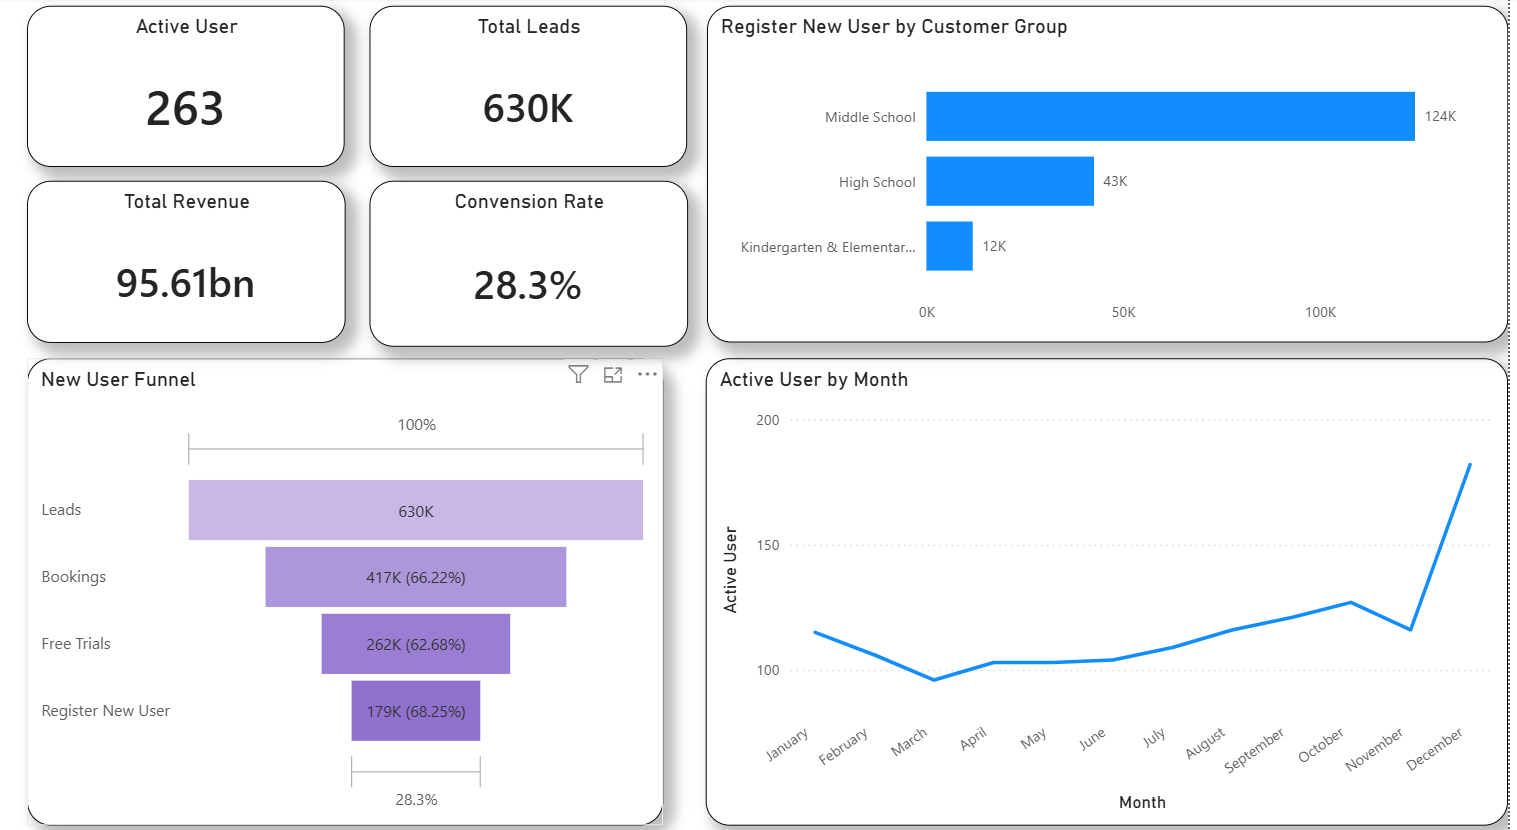

This screenshot's page, from the dashboard's own definition file:
{"tool":"powerbi","page":{"name":"Funnel","canvas":[1280,720],"ordinal":0},"visuals":[{"type":"funnel","title":"New User Funnel","fields":{"Category":["funnel.Stage"],"Y":["funnel.total count"]},"box":[37.3,303,533.7,392.3],"z":0},{"type":"cardVisual","title":"Active User","fields":{"Data":["cohort.Active User"]},"box":[37.7,7.3,266.3,135.2],"z":1000},{"type":"cardVisual","title":"Total Leads","fields":{"Data":["funnel.Total Leads"]},"box":[325,7.3,266.3,135.2],"z":2000},{"type":"cardVisual","title":"Total Revenue","fields":{"Data":["cohort.Total Revenue"]},"box":[37.3,153.8,266.8,135.7],"z":3000},{"type":"cardVisual","title":"Convension Rate","fields":{"Data":["funnel.Overall Conversion Rate"]},"box":[324.5,153.8,266.8,139.1],"z":4000},{"type":"lineChart","fields":{"Y":["cohort.Active User"],"Category":["dim_date.Date.Variation.Date Hierarchy.Month"]},"box":[607,303,673,392.1],"z":5000},{"type":"clusteredBarChart","title":"Register New User by Customer Group","fields":{"Category":["funnel.Customer Group"],"Y":["Sum(funnel.Count)"]},"box":[608,7.3,672,282],"z":6000}]}

Visuals, with their boxes in screenshot pixels (x1, y1, x2, y2), scaled from the page's 1280x720 canvas onto the 1517x830 screenshot:
"New User Funnel" funnel: (left=44, top=349, right=677, bottom=802)
"Active User" cardVisual: (left=45, top=8, right=360, bottom=164)
"Total Leads" cardVisual: (left=385, top=8, right=701, bottom=164)
"Total Revenue" cardVisual: (left=44, top=177, right=360, bottom=334)
"Convension Rate" cardVisual: (left=385, top=177, right=701, bottom=338)
lineChart - cohort.Active User x dim_date.Date.Variation.Date Hierarchy.Month: (left=719, top=349, right=1516, bottom=801)
"Register New User by Customer Group" clusteredBarChart: (left=721, top=8, right=1516, bottom=333)
